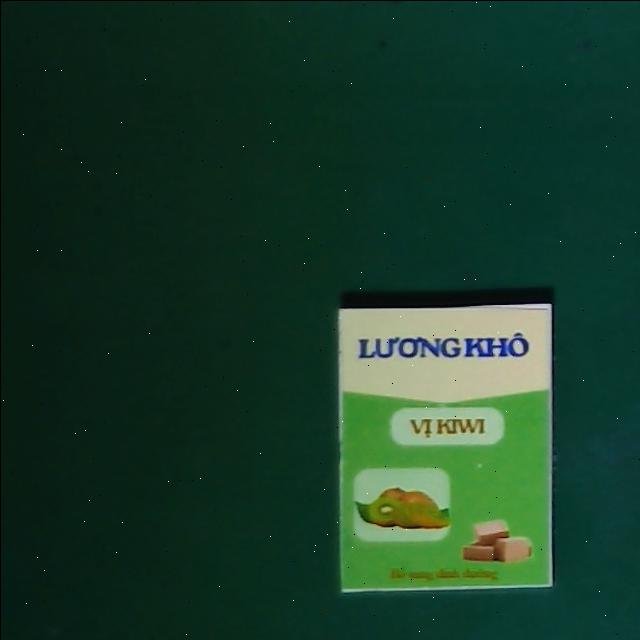kiwi: (340, 305, 552, 590)
